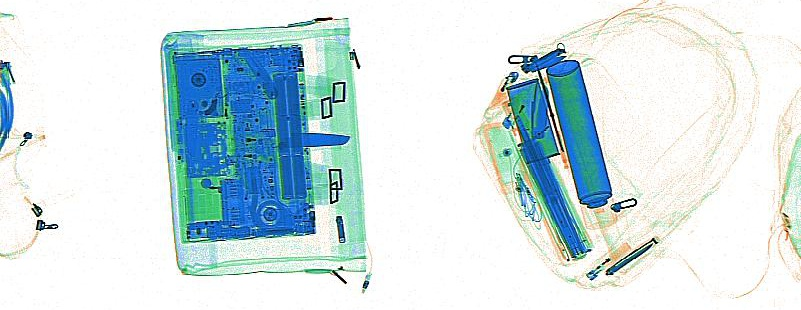knife: (230, 130, 351, 148), (605, 235, 659, 275), (242, 50, 279, 99), (529, 79, 549, 141)
lighter: (584, 240, 632, 281), (501, 85, 532, 130), (487, 70, 518, 110)
pressure: (545, 58, 618, 230)
scissors: (531, 58, 570, 169), (518, 47, 567, 73)
